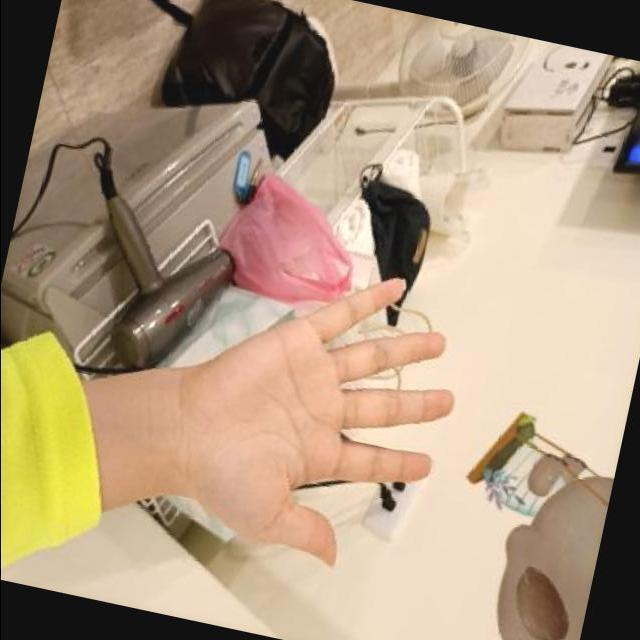hand: (132, 230, 492, 598)
